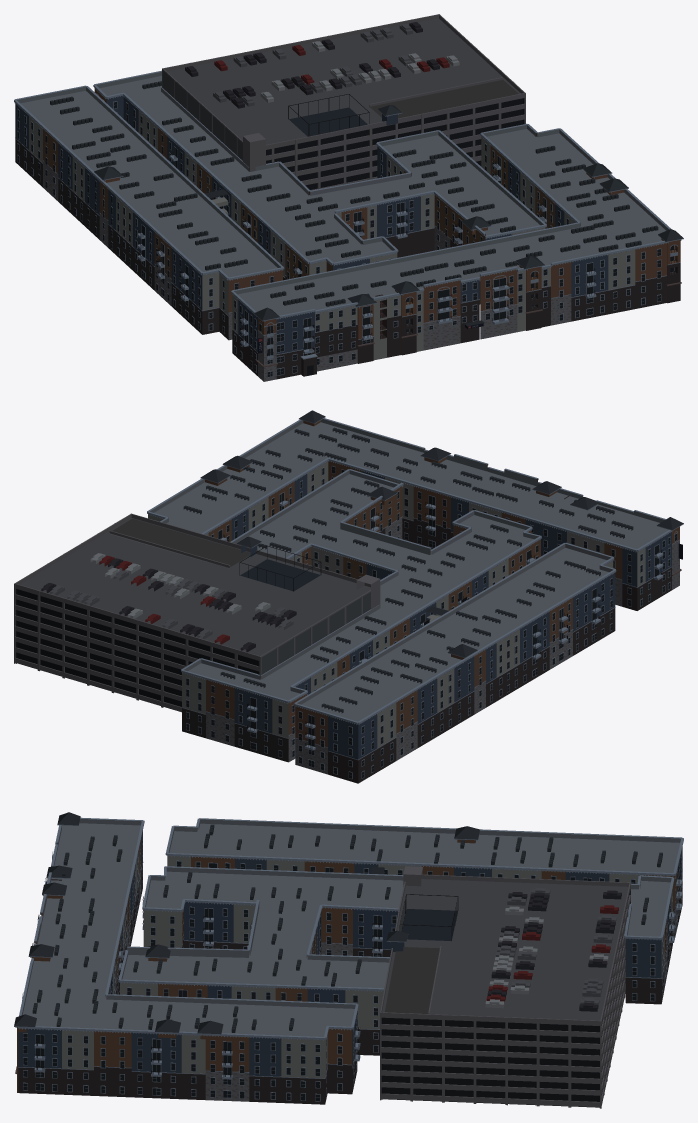
The model's file is 26-west-look.glb.
The picture shows the model from 3 angles, top to bottom: view 1: azimuth 30°, elevation 25°; view 2: azimuth 150°, elevation 25°; view 3: azimuth 270°, elevation 25°; orthographic projection. The views are drawn at different scales.
Visible parts, largest first — view 1: n_roof_membrane, n_trim_white, n_garage_deck, n_wall_brick, n_glass_window, n_wall_orange_stucco, n_hvac_unit, n_garage_concrete, n_wall_cream_stucco, n_wall_blue_stucco, n_garage_dark_interior, n_wall_limestone_light (+11 smaller); view 2: n_roof_membrane, n_trim_white, n_garage_deck, n_garage_concrete, n_wall_blue_stucco, n_wall_orange_stucco, n_wall_brick, n_glass_window, n_hvac_unit, n_garage_dark_interior, n_wall_cream_stucco, n_wall_limestone_light (+11 smaller); view 3: n_roof_membrane, n_garage_deck, n_trim_white, n_garage_concrete, n_wall_blue_stucco, n_garage_dark_interior, n_wall_brick, n_wall_cream_stucco, n_glass_window, n_wall_orange_stucco, n_hvac_unit, n_green_roof (+10 smaller).
Boxes of the visible parts, box(x1,y1,x2,y2) form: n_roof_membrane: box(17, 72, 668, 315); n_trim_white: box(14, 70, 683, 377); n_garage_deck: box(167, 18, 520, 144); n_wall_brick: box(15, 139, 680, 379); n_glass_window: box(17, 102, 673, 376); n_wall_orange_stucco: box(43, 88, 680, 363); n_hvac_unit: box(50, 81, 658, 306); n_garage_concrete: box(162, 14, 525, 190); n_wall_cream_stucco: box(29, 110, 635, 360); n_wall_blue_stucco: box(15, 96, 608, 354); n_garage_dark_interior: box(266, 98, 524, 375); n_wall_limestone_light: box(43, 161, 571, 381); n_roof_membrane: box(150, 419, 668, 721); n_trim_white: box(147, 417, 683, 779); n_garage_deck: box(20, 518, 370, 656); n_garage_concrete: box(14, 513, 380, 711); n_wall_blue_stucco: box(231, 470, 671, 759); n_wall_orange_stucco: box(205, 420, 679, 747); n_wall_brick: box(182, 518, 671, 783); n_glass_window: box(186, 466, 677, 778); n_hvac_unit: box(183, 427, 633, 713); n_garage_dark_interior: box(15, 589, 259, 706); n_wall_cream_stucco: box(148, 461, 645, 747); n_wall_limestone_light: box(206, 518, 679, 774); n_roof_membrane: box(22, 819, 680, 1036); n_garage_deck: box(382, 879, 628, 1020); n_trim_white: box(14, 817, 683, 1101); n_garage_concrete: box(380, 866, 630, 1108); n_wall_blue_stucco: box(18, 831, 682, 1076); n_garage_dark_interior: box(381, 889, 630, 1107); n_wall_brick: box(18, 865, 682, 1104); n_wall_cream_stucco: box(52, 827, 672, 1078); n_glass_window: box(23, 833, 681, 1100); n_wall_orange_stucco: box(17, 839, 678, 1092); n_hvac_unit: box(32, 824, 662, 1032); n_green_roof: box(385, 947, 439, 1013).
Bounding box in the file's own units: 134 × 28.18 × 167.
